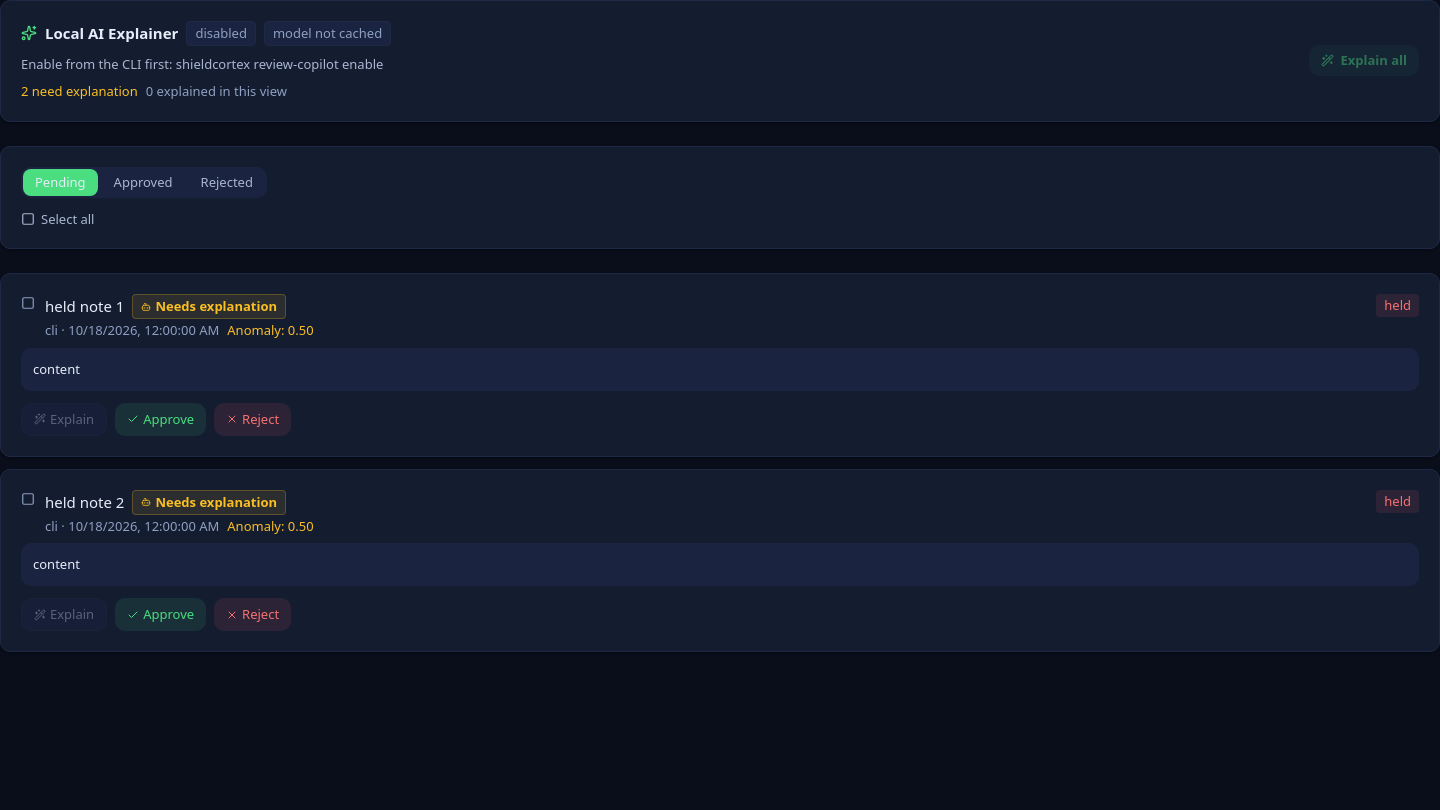
QuarantineView approval notices (#824, #828) › a refused single approval shows the status and the reason
The image size is (1440, 810).
Click the button "Approve" below "held note 1": (161, 419) [115,403,206,436]
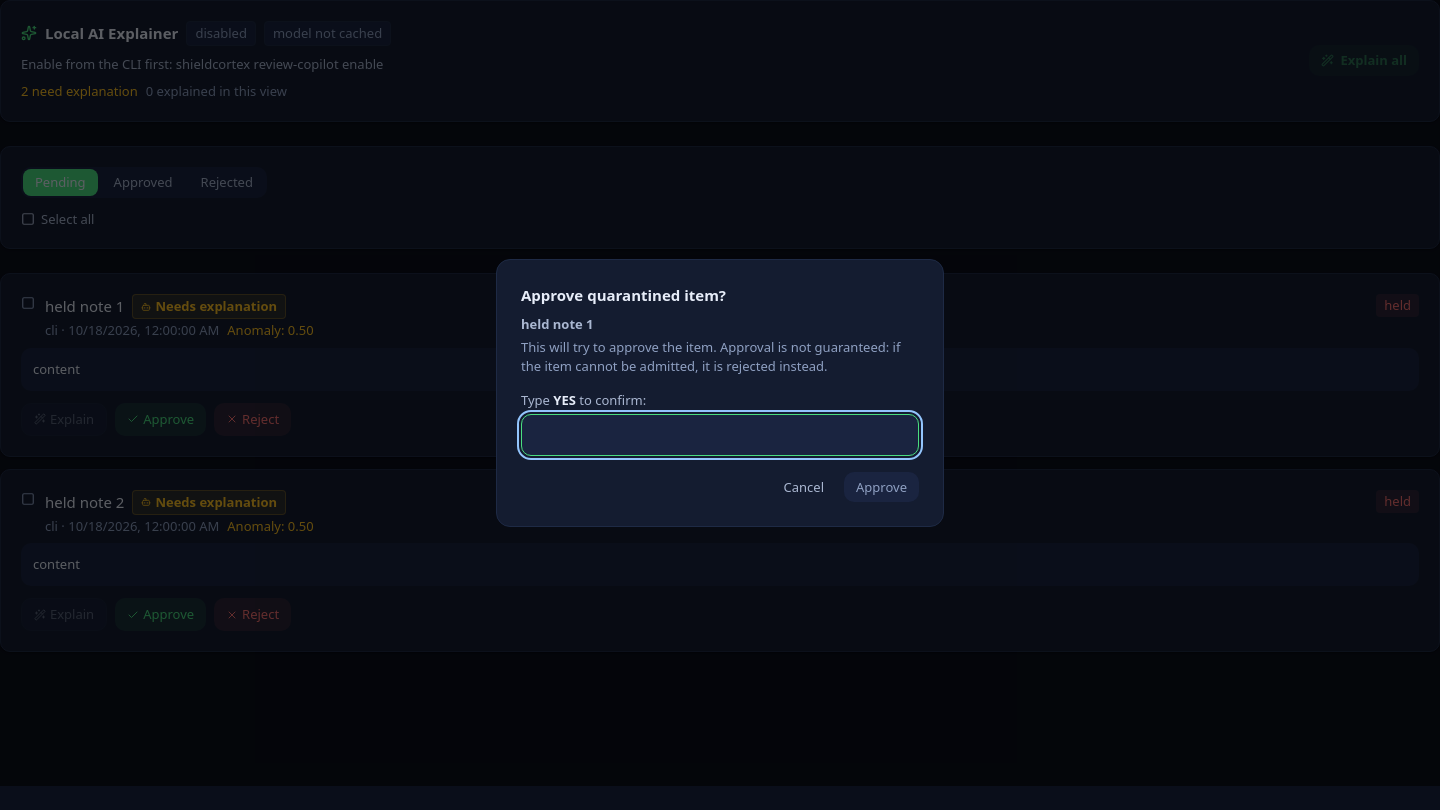
Expected: the text "Approval is not guaranteed: if the item cannot be admitted, it is rejected instead." is shown, [521,338,900,374]
In the field: (720, 435) [521,414,919,456], type "YES"
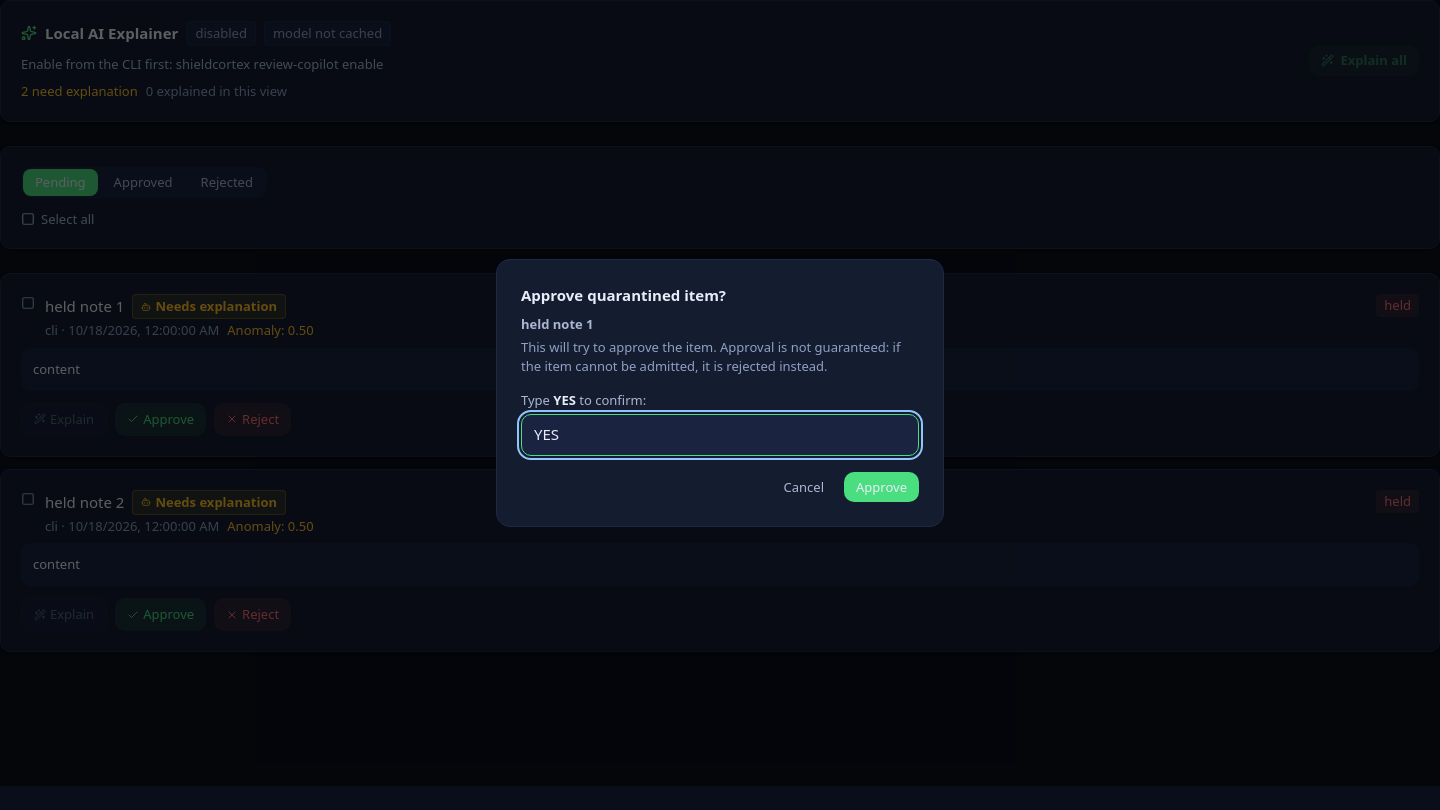
Click the button "Approve": (882, 487) [844,472,919,502]
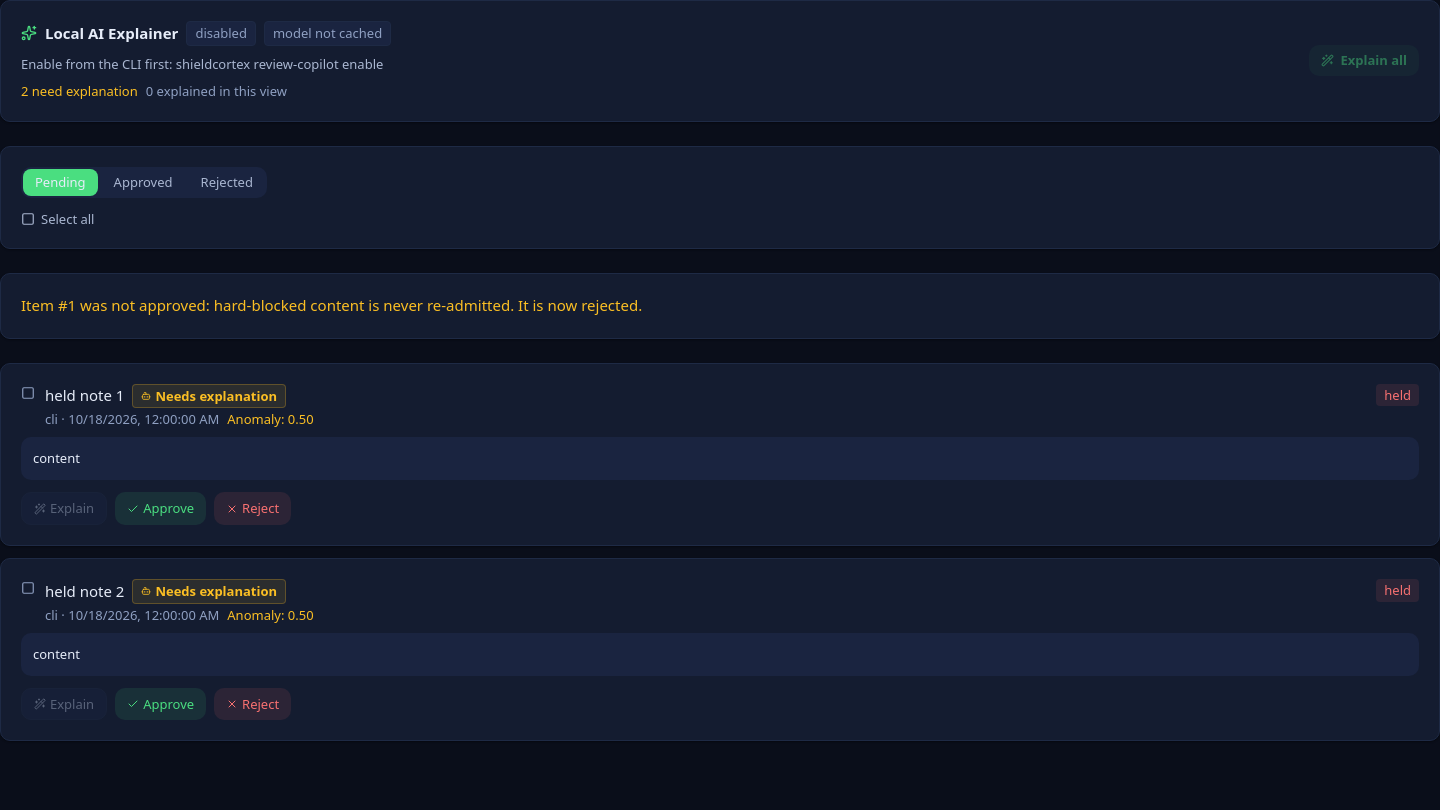
Expected: the message shows "Item #1 was not approved: hard-blocked content is never re-admitted. It is now rejected.", [21,295,642,315]
